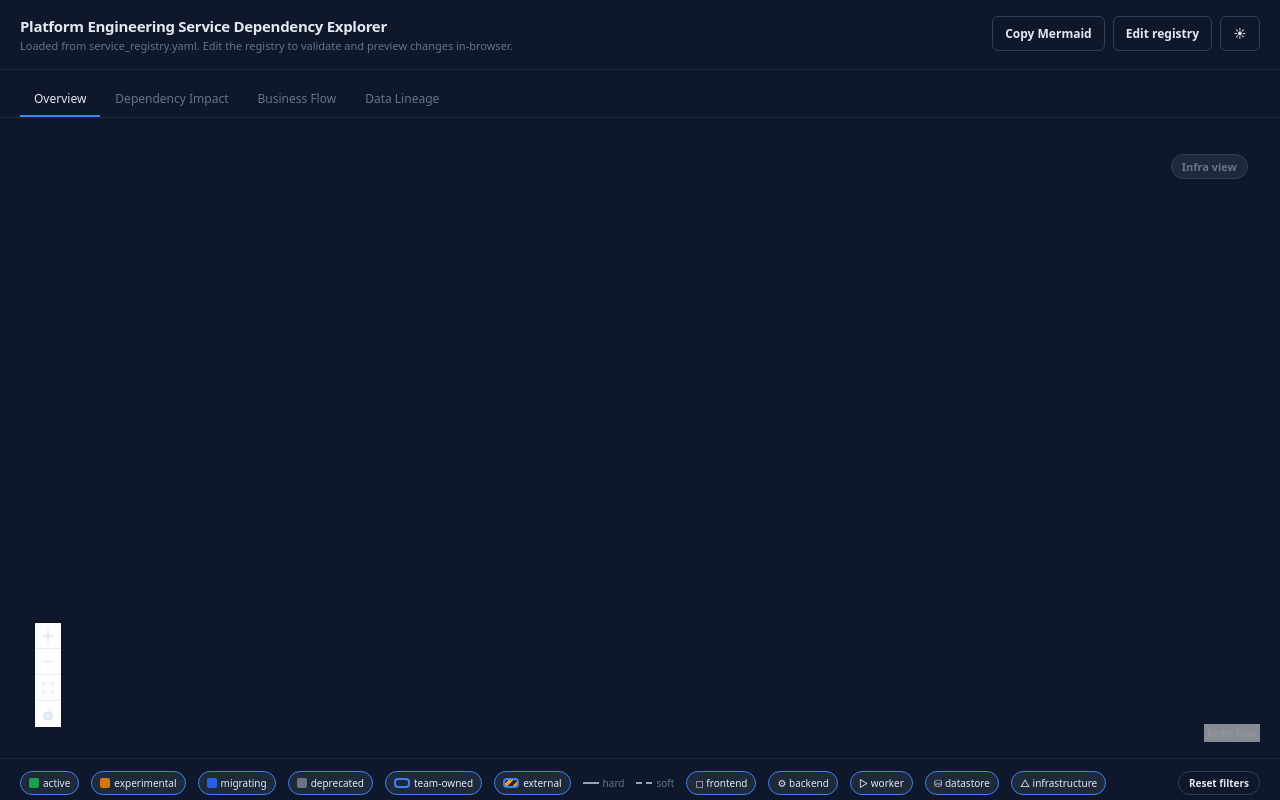
CatalogView › shows flow filters in business flow mode
The image size is (1280, 800).
Click the button "Business Flow": coordinates (297, 100) 244,82 -> 350,117
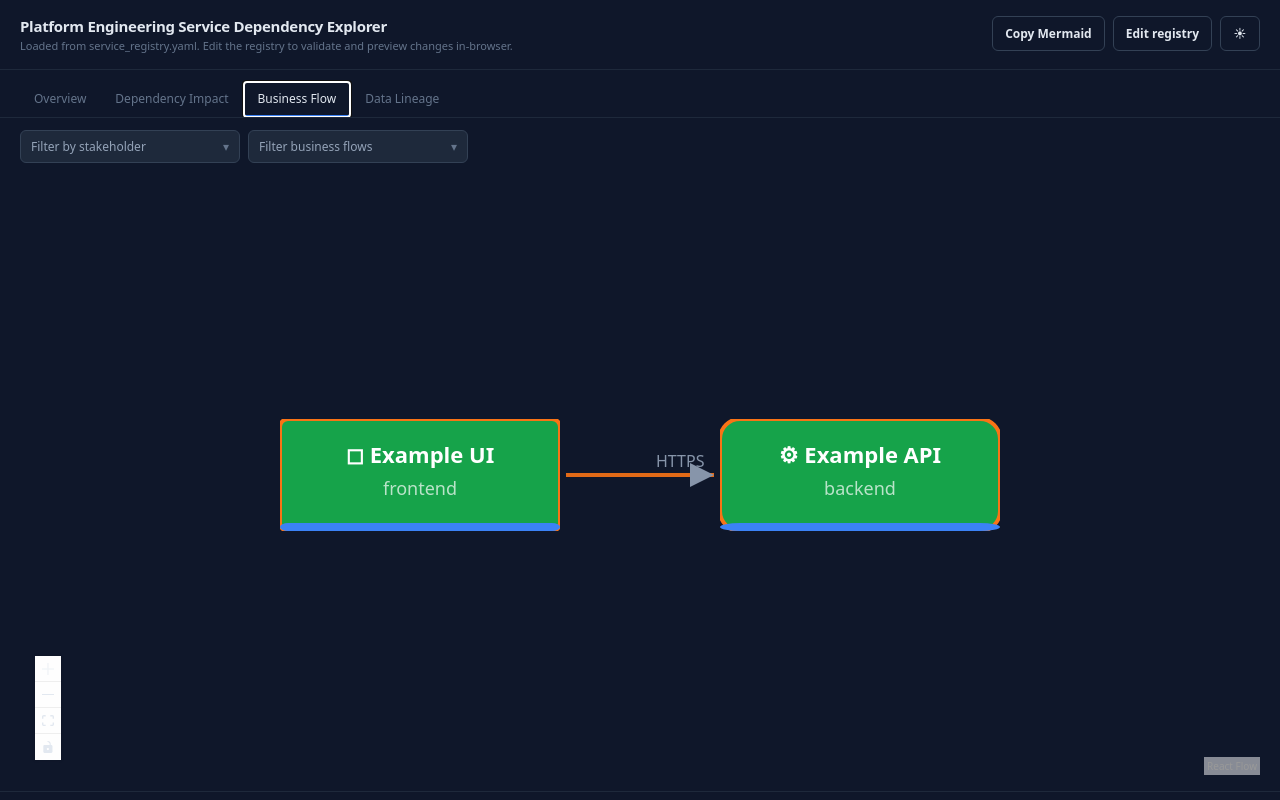
Expected: the button "Filter by stakeholder ▾" is shown, 20,130 -> 240,163
Expected: the button "Filter business flows ▾" is shown, 248,130 -> 468,163
